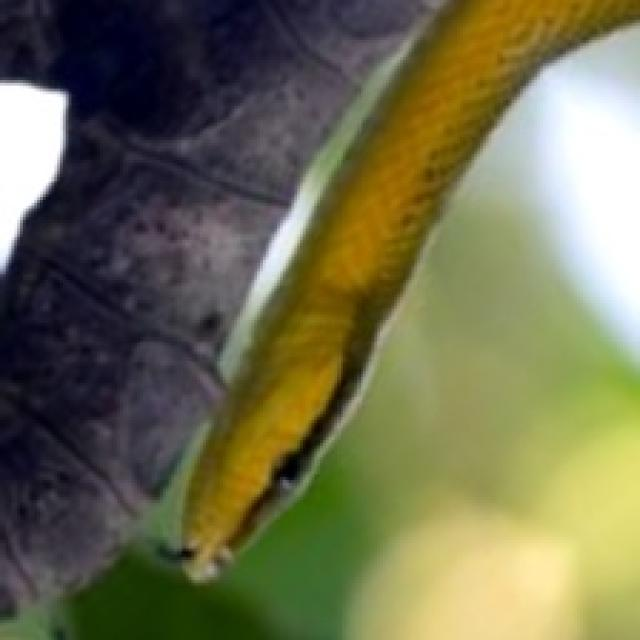red-tailed green ratsnake: (180, 0, 637, 577)
